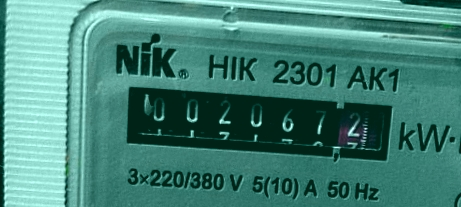0: (149, 94, 169, 124), (246, 99, 266, 128), (183, 95, 202, 125)
2: (344, 109, 364, 139), (216, 97, 235, 127)
6: (278, 104, 298, 134)
7: (311, 106, 329, 137)
screen: (111, 73, 407, 175)
